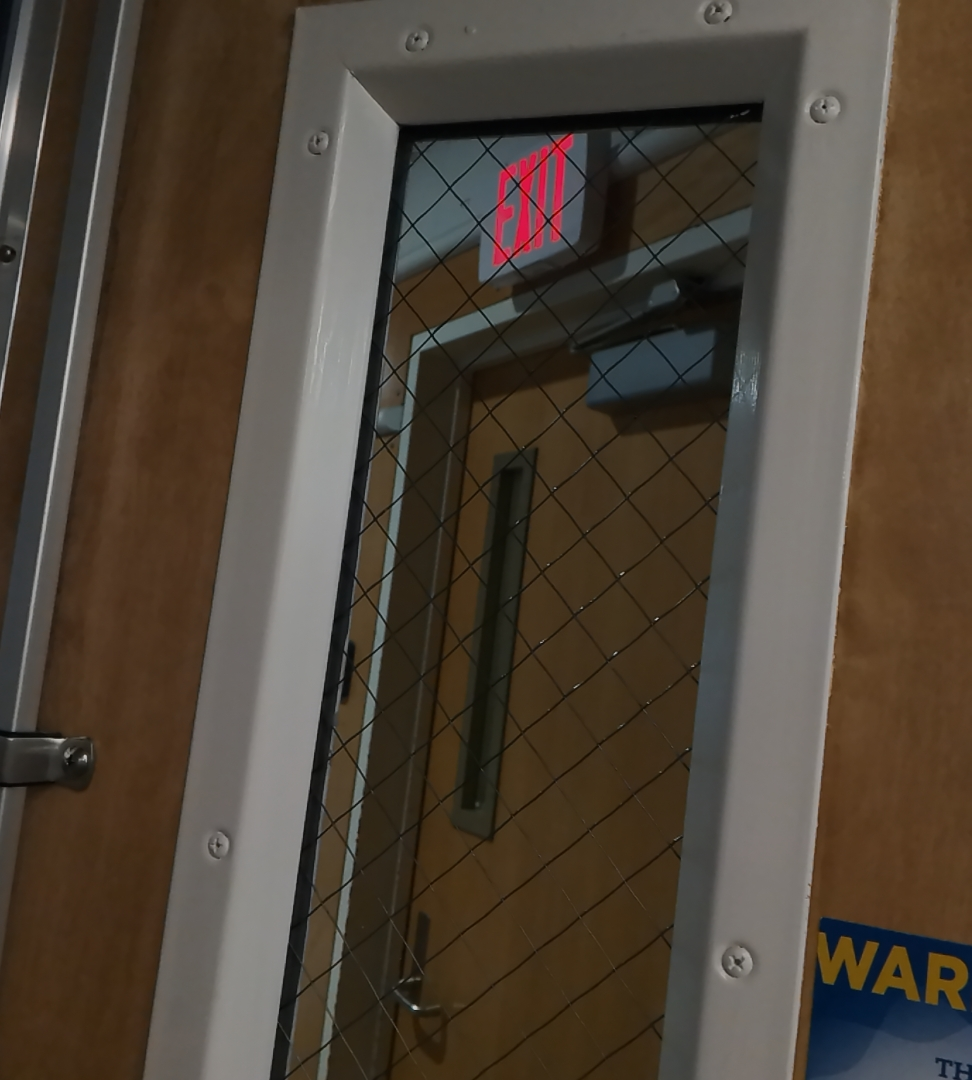emergency_exit: (802, 914, 970, 1078), (475, 128, 607, 287)
